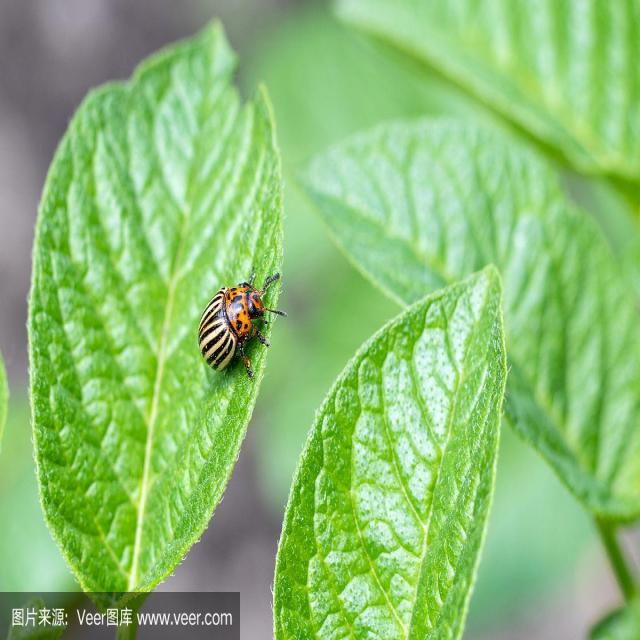ShuCaiHuaBanChong-Grown-: (186, 268, 275, 356)
